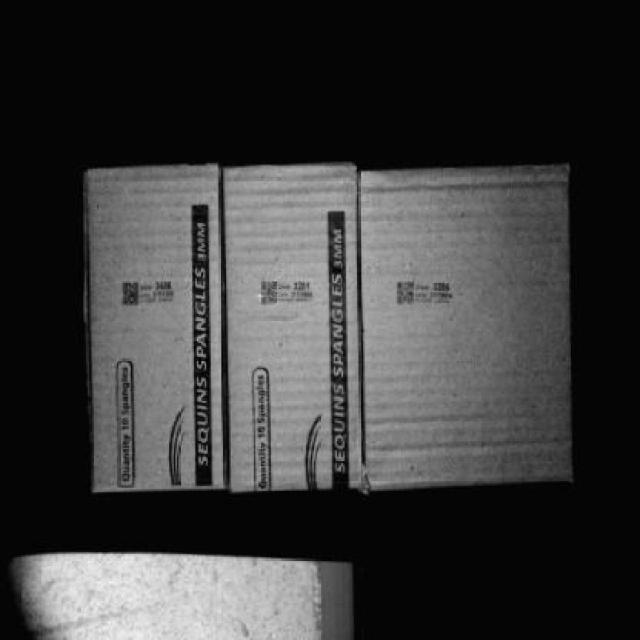cardboxes: (360, 165, 578, 487), (87, 168, 228, 494), (226, 164, 363, 493)
